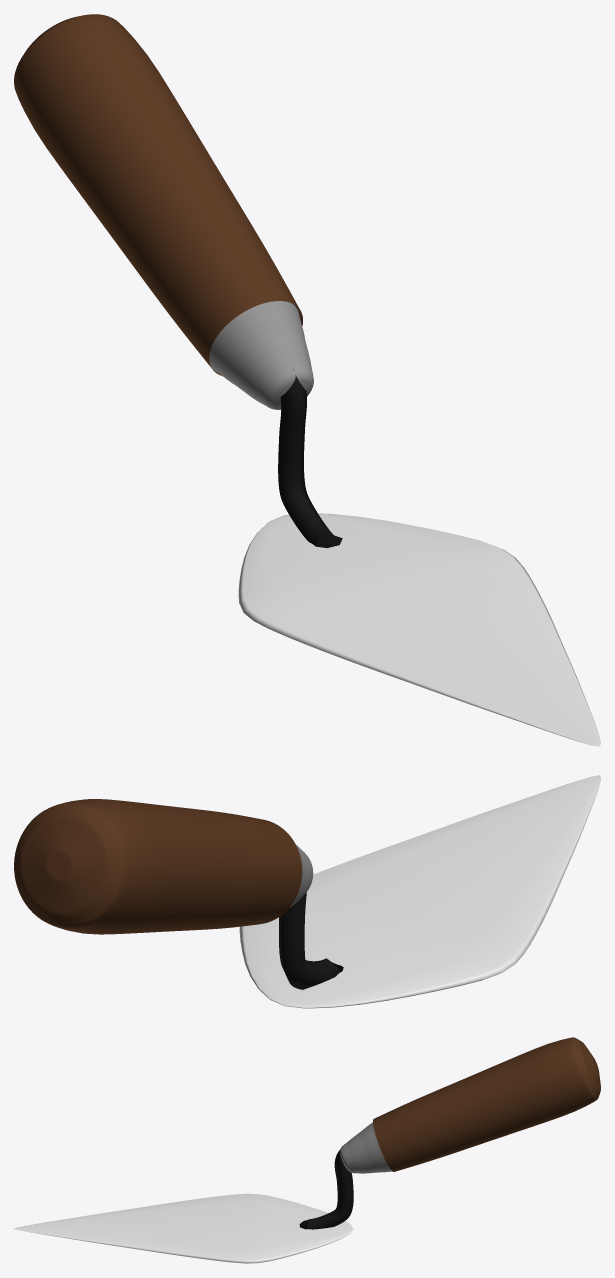
Rendered from Khurpi(Trowel).fbx.
3 views of the same model, one above another, from view 1: azimuth 30°, elevation 25°; view 2: azimuth 150°, elevation 25°; view 3: azimuth 270°, elevation 25° (orthographic). The views are drawn at different scales.
Visible parts, largest first — view 1: Cube, Circle, Circle.001, BezierCurve; view 2: Cube, Circle, BezierCurve, Circle.001; view 3: Circle, Cube, Circle.001, BezierCurve.
Part boxes in pixels (x1=…): Cube: x1=238, y1=513, x2=600, y2=746; Circle: x1=14, y1=14, x2=302, y2=376; Circle.001: x1=209, y1=301, x2=313, y2=409; BezierCurve: x1=278, y1=369, x2=342, y2=548; Cube: x1=239, y1=775, x2=600, y2=1008; Circle: x1=14, y1=799, x2=302, y2=934; BezierCurve: x1=279, y1=892, x2=343, y2=989; Circle.001: x1=255, y1=845, x2=313, y2=924; Circle: x1=373, y1=1037, x2=600, y2=1171; Cube: x1=14, y1=1193, x2=353, y2=1263; Circle.001: x1=340, y1=1122, x2=392, y2=1173; BezierCurve: x1=299, y1=1149, x2=353, y2=1229.
Bounding box in the file's own units: 121 × 159 × 439.
